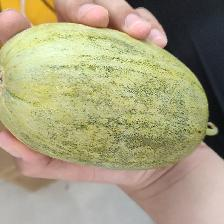gua: (5, 13, 216, 175)
